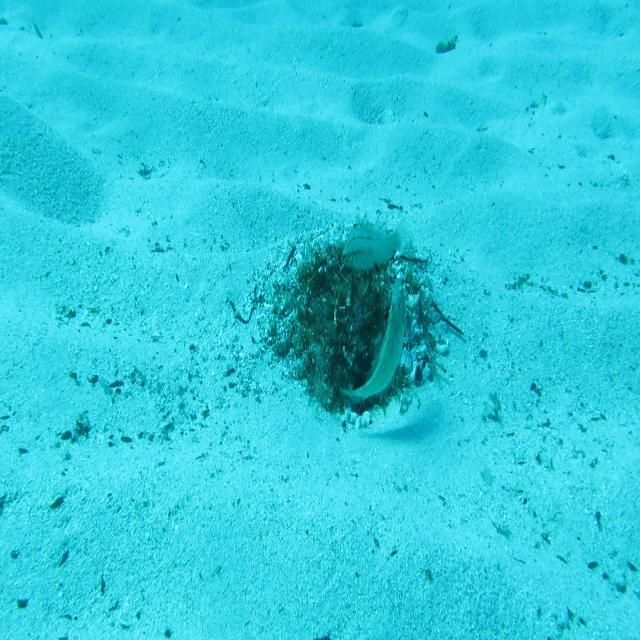GB: (338, 274, 408, 408)
core_nest: (327, 264, 376, 310)
female: (339, 214, 417, 274)
nest: (246, 215, 456, 447)
vegetation: (432, 34, 461, 57)
